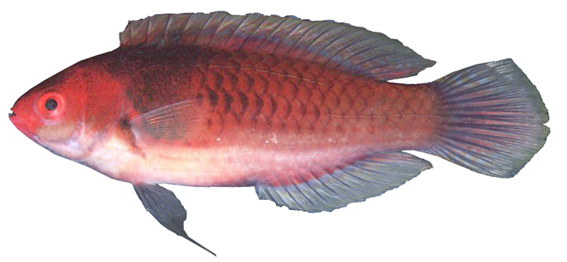fish: (9, 11, 551, 257)
